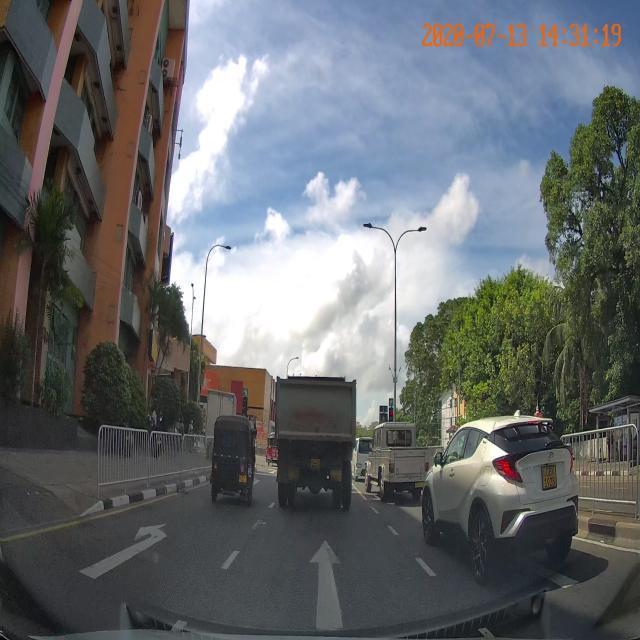forward: (171, 535, 492, 635)
